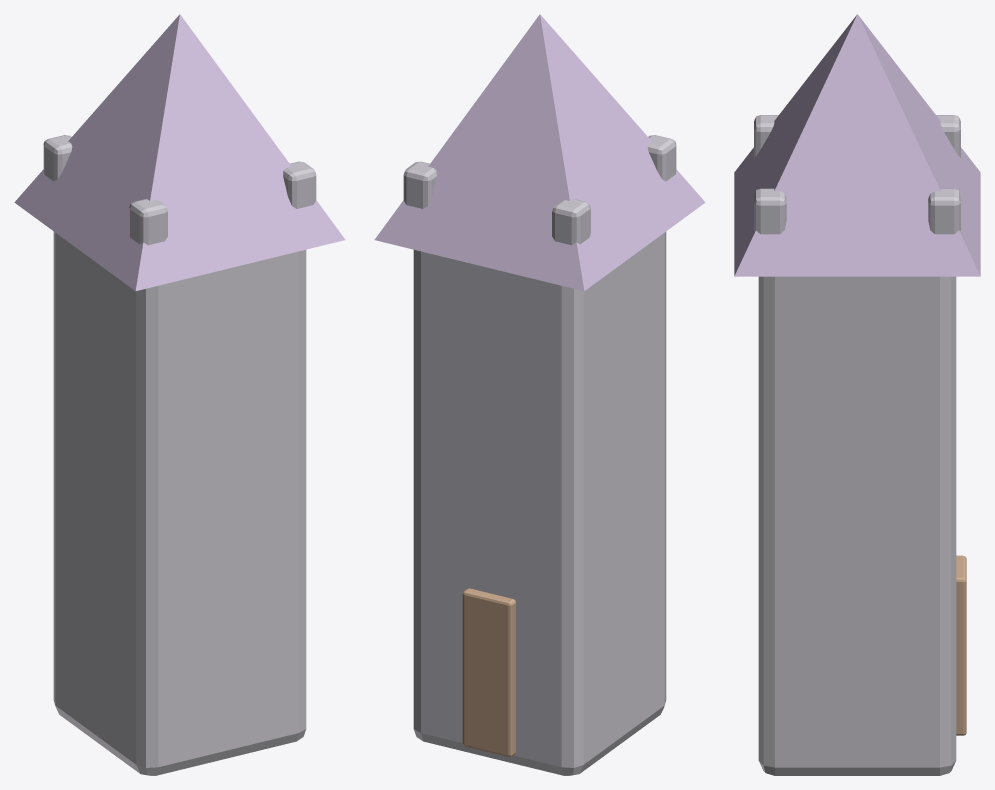
Rendered from kit_tower_square.glb.
The picture shows the model from 3 angles, left to right: view 1: azimuth 30°, elevation 25°; view 2: azimuth 150°, elevation 25°; view 3: azimuth 270°, elevation 25°; orthographic projection.
Parts seen in each view (by area): view 1: kit_tower_square.001; view 2: kit_tower_square.001; view 3: kit_tower_square.001.
Part boxes in pixels (box(x1,y1,x2,y2)): kit_tower_square.001: box(14, 14, 345, 775); kit_tower_square.001: box(374, 14, 705, 775); kit_tower_square.001: box(734, 14, 980, 775).
Bounding box in the file's own units: 2.12 × 6.9 × 2.12.
